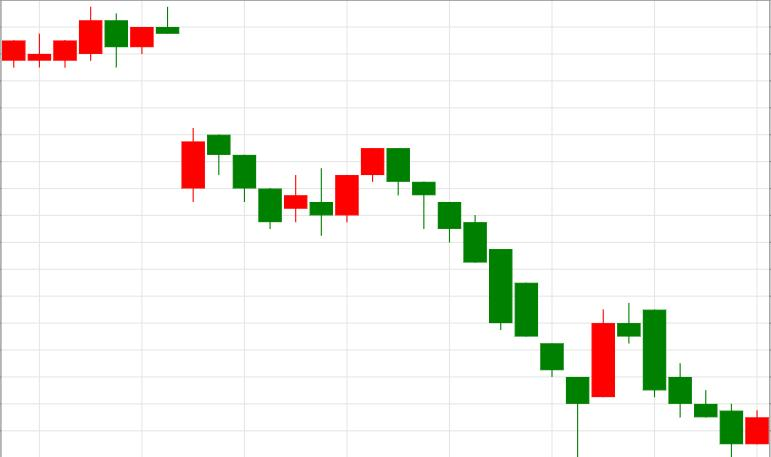hammer_rise: (387, 149, 589, 457)
